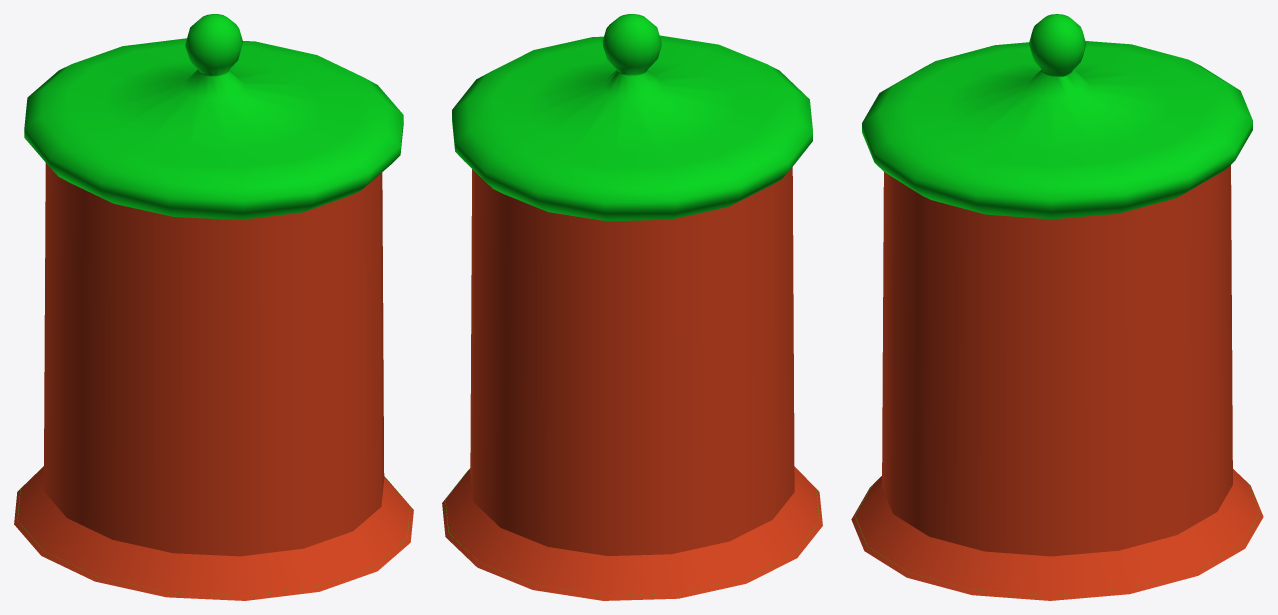
File: Jar with Brain Dissected.fbx
3 renders of one model, left to right at view 1: azimuth 30°, elevation 25°; view 2: azimuth 150°, elevation 25°; view 3: azimuth 270°, elevation 25°, orthographic.
Parts seen in each view (by area): view 1: Cylinder; view 2: Cylinder; view 3: Cylinder.
Boxes of the visible parts, x1=… form: Cylinder: x1=14, y1=14, x2=413, y2=600; Cylinder: x1=442, y1=14, x2=822, y2=600; Cylinder: x1=851, y1=14, x2=1263, y2=600.
Size of the model in its own units: 52.57 by 74.54 by 55.35.
